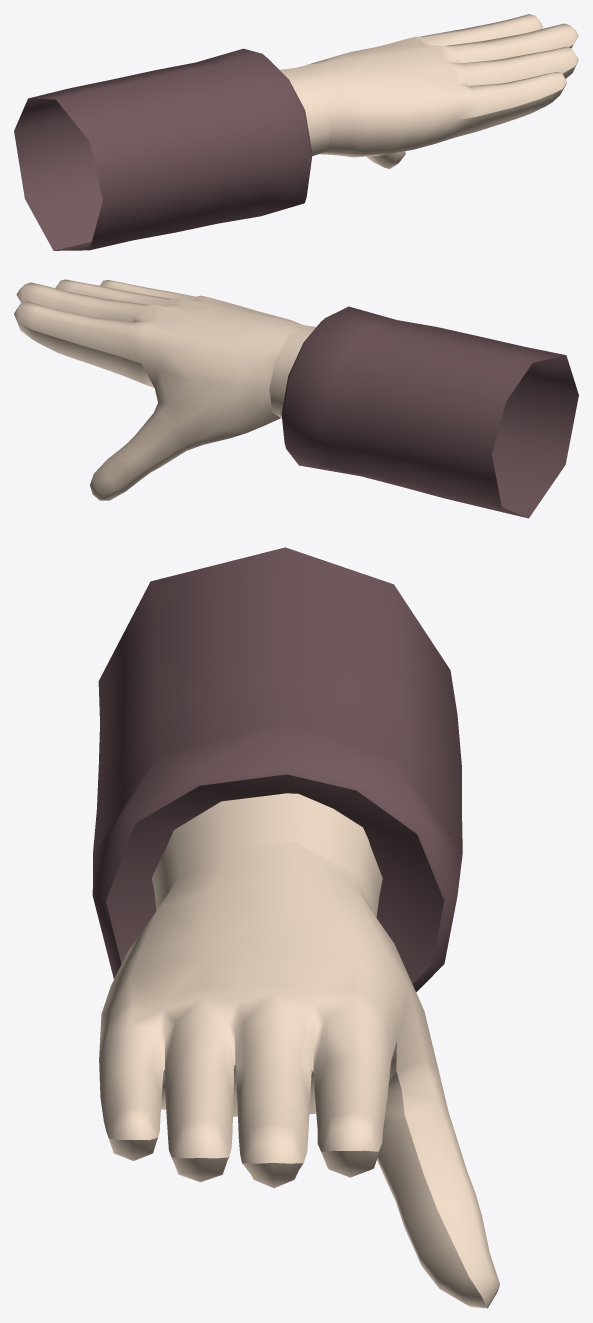
Rendered from mDerOak.obj.
3 renders of one model, top to bottom at view 1: azimuth 30°, elevation 25°; view 2: azimuth 150°, elevation 25°; view 3: azimuth 270°, elevation 25°, orthographic. The views are drawn at different scales.
Visible parts, largest first — view 1: ManoDer_body.001, RHand, RForeArmEX, RFingerE1, RFingerD1, RFingerC1, RFingerC3, RFingerE2, RFingerD3, RFingerE3, RFingerC2, RFingerB3 (+5 smaller); view 2: ManoDer_body.001, RHand, RForeArmEX, RFingerB1, RFingerA2, RFingerA1, RFingerA3, RFingerB2, RFingerB3, RFingerC3, RFingerC1, RFingerC2 (+3 smaller); view 3: ManoDer_body.001, RHand, RForeArmEX, RFingerA3, RFingerA2, RFingerC1, RFingerB1, RFingerC3, RFingerB3, RFingerD3, RFingerD1, RFingerE1 (+6 smaller).
Part boxes in pixels (left/top/right/bottom): ManoDer_body.001: left=14, top=48, right=312, bottom=250; RHand: left=308, top=37, right=475, bottom=157; RForeArmEX: left=279, top=65, right=351, bottom=155; RFingerE1: left=456, top=83, right=519, bottom=137; RFingerD1: left=452, top=60, right=507, bottom=85; RFingerC1: left=440, top=41, right=505, bottom=63; RFingerC3: left=521, top=23, right=578, bottom=52; RFingerE2: left=497, top=79, right=545, bottom=117; RFingerD3: left=529, top=46, right=578, bottom=78; RFingerE3: left=526, top=72, right=567, bottom=105; RFingerC2: left=483, top=34, right=537, bottom=58; RFingerB3: left=491, top=14, right=542, bottom=36; ManoDer_body.001: left=281, top=306, right=578, bottom=518; RHand: left=121, top=295, right=301, bottom=432; RForeArmEX: left=255, top=319, right=316, bottom=417; RFingerB1: left=76, top=318, right=147, bottom=383; RFingerA2: left=133, top=403, right=203, bottom=466; RFingerA1: left=168, top=381, right=246, bottom=444; RFingerA3: left=90, top=436, right=160, bottom=500; RFingerB2: left=41, top=311, right=100, bottom=359; RFingerB3: left=14, top=301, right=64, bottom=344; RFingerC3: left=16, top=282, right=73, bottom=309; RFingerC1: left=89, top=300, right=154, bottom=322; RFingerC2: left=58, top=293, right=111, bottom=316; ManoDer_body.001: left=92, top=547, right=462, bottom=992; RHand: left=100, top=855, right=425, bottom=1094; RForeArmEX: left=154, top=794, right=379, bottom=917; RFingerA3: left=396, top=1164, right=499, bottom=1308; RFingerA2: left=377, top=1060, right=466, bottom=1224; RFingerC1: left=233, top=993, right=314, bottom=1116; RFingerB1: left=309, top=997, right=391, bottom=1114; RFingerC3: left=238, top=1100, right=308, bottom=1187; RFingerB3: left=317, top=1092, right=382, bottom=1177; RFingerD3: left=168, top=1095, right=232, bottom=1182; RFingerD1: left=163, top=998, right=236, bottom=1102; RFingerE1: left=99, top=1010, right=166, bottom=1109.
Bounding box in the file's own units: 41.47 × 14.87 × 14.14.
